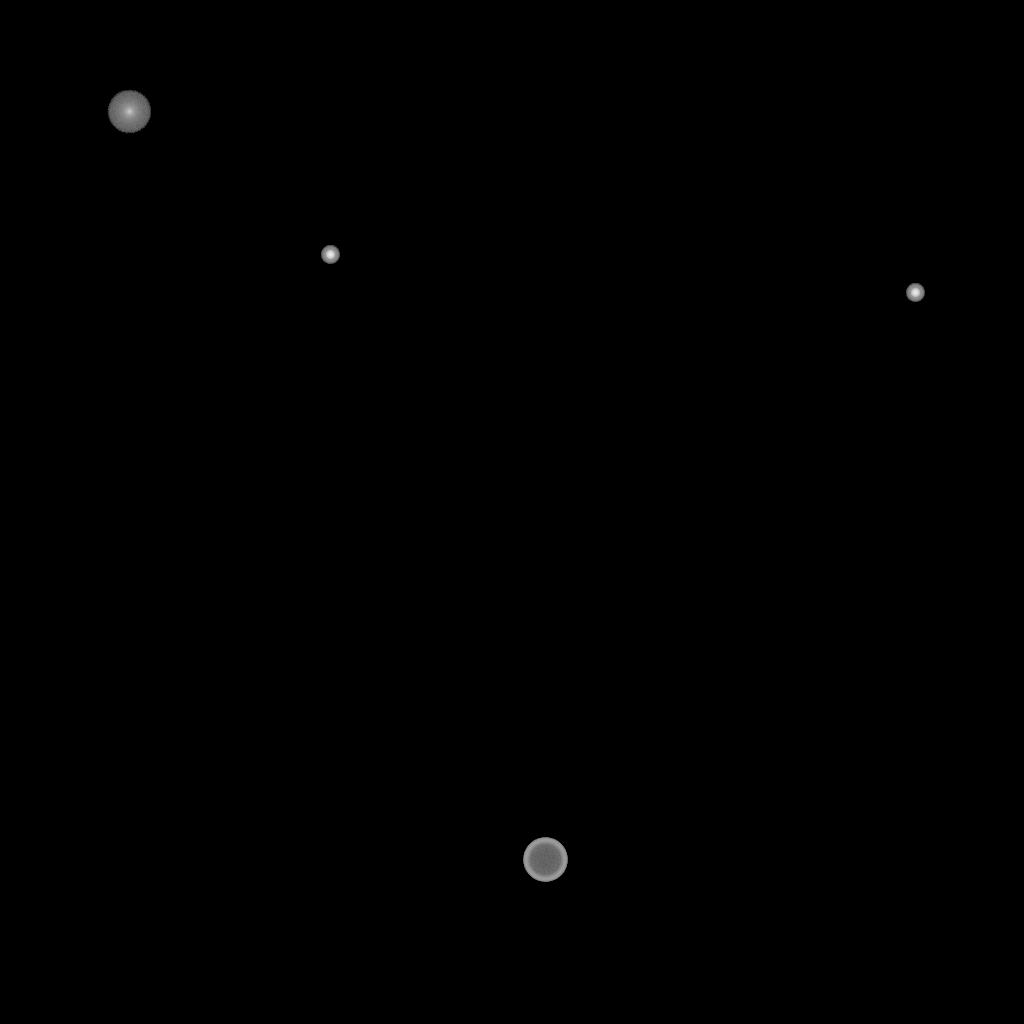depth:-20: (321, 246, 339, 264), (906, 284, 924, 302)
depth:-70: (523, 838, 567, 882)
depth:10: (107, 90, 151, 134)
